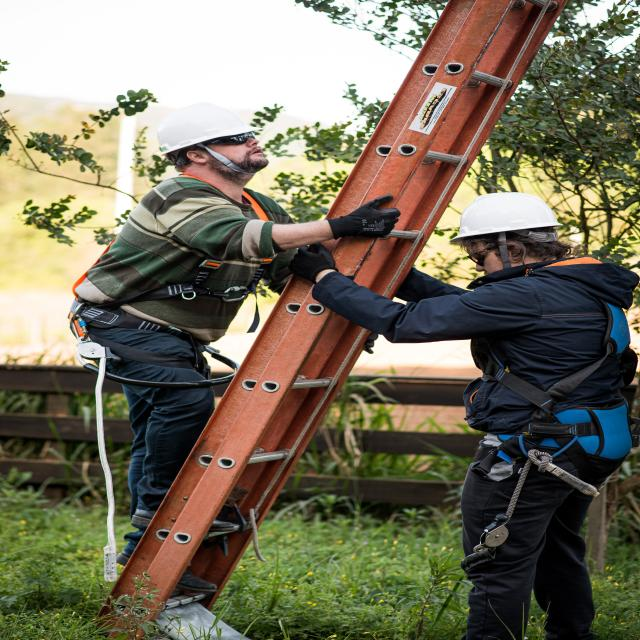capacete: (152, 98, 263, 156), (448, 191, 566, 245)
corda de vida: (61, 172, 293, 374)
luva: (284, 238, 337, 287)
